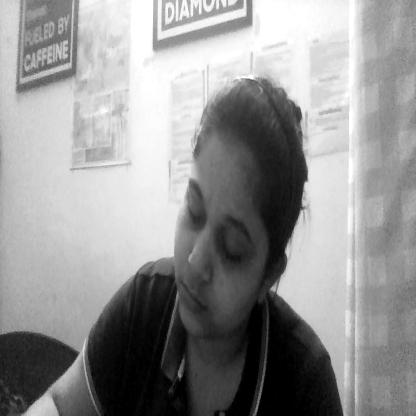Distracted: (183, 86, 297, 340)
